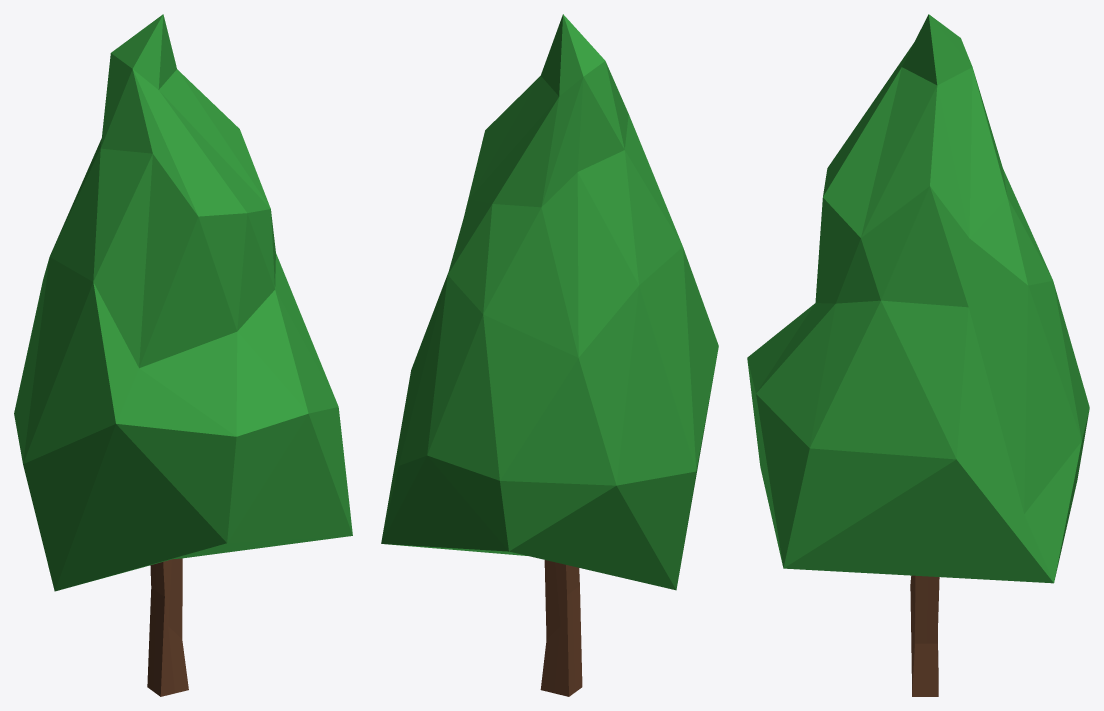
The model's file is Tree_16_Green.fbx.
3 renders of one model, left to right at view 1: azimuth 30°, elevation 25°; view 2: azimuth 150°, elevation 25°; view 3: azimuth 270°, elevation 25°, orthographic.
Visible parts, largest first — view 1: Tree_16_Green_Part_1, Tree_16_Green_Part_2; view 2: Tree_16_Green_Part_1, Tree_16_Green_Part_2; view 3: Tree_16_Green_Part_1, Tree_16_Green_Part_2.
Part boxes in pixels (<box>): Tree_16_Green_Part_1: <box>14,14,352,591</box>; Tree_16_Green_Part_2: <box>147,558,188,696</box>; Tree_16_Green_Part_1: <box>381,14,718,590</box>; Tree_16_Green_Part_2: <box>540,560,582,696</box>; Tree_16_Green_Part_1: <box>747,14,1089,583</box>; Tree_16_Green_Part_2: <box>910,575,939,696</box>.
Bounding box in the file's own units: 339 × 797 × 367.
